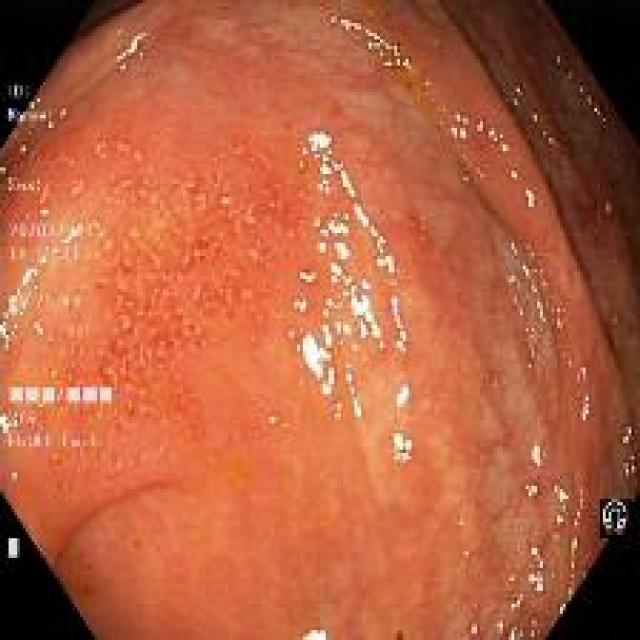ulcerative-colitis-grade-1: (0, 3, 640, 640)
